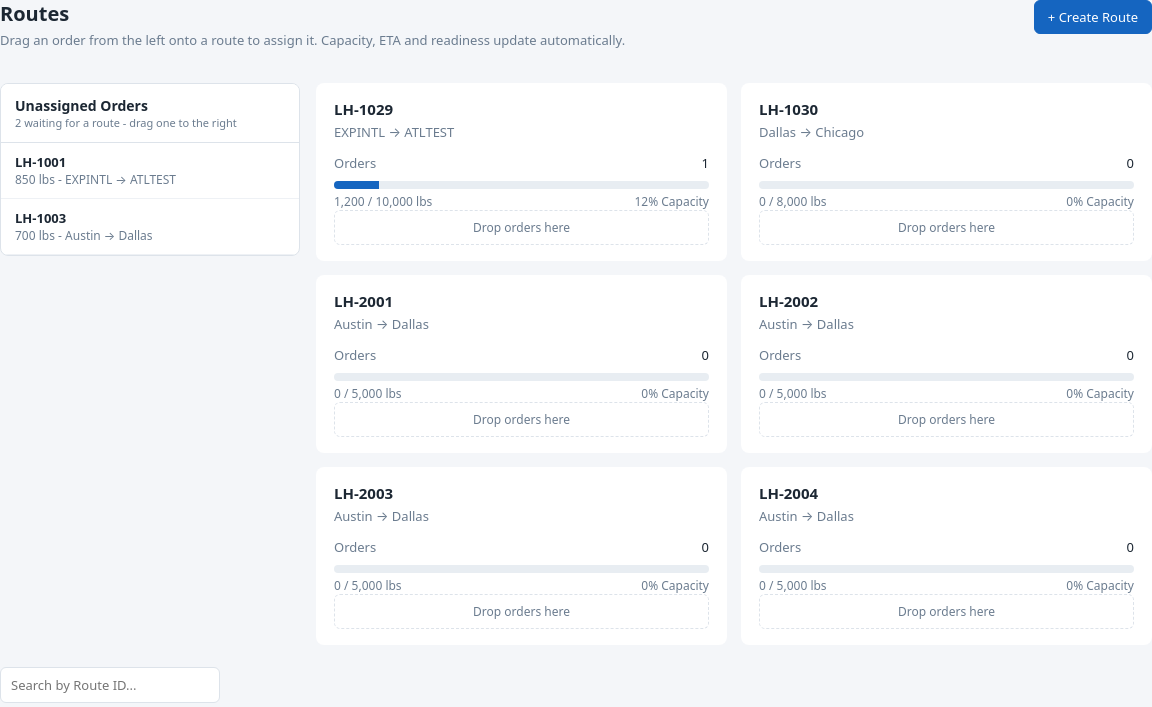
Scenario: Routes pagination › jumps to the page that contains a newly created route
Click the button "+ Create Route": {"x": 1093, "y": 17} left=1034, top=0, right=1151, bottom=34
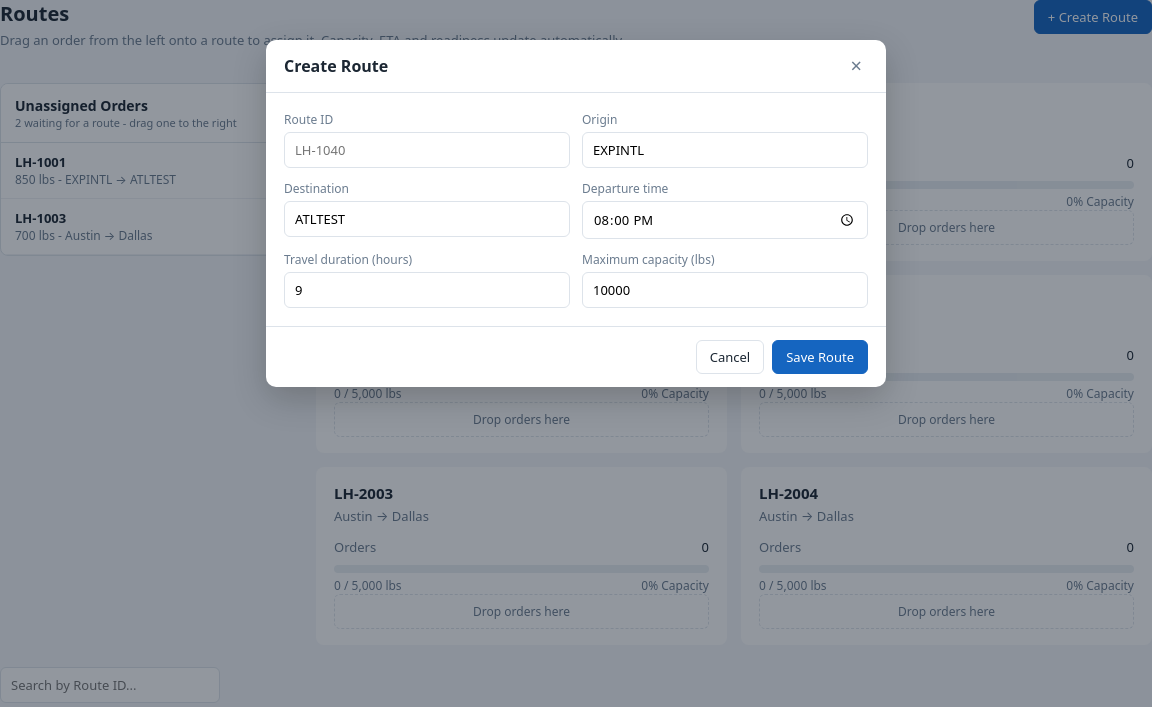
In the field with placeholder "LH-1040": {"x": 427, "y": 150} left=284, top=132, right=570, bottom=168, type "R-9"
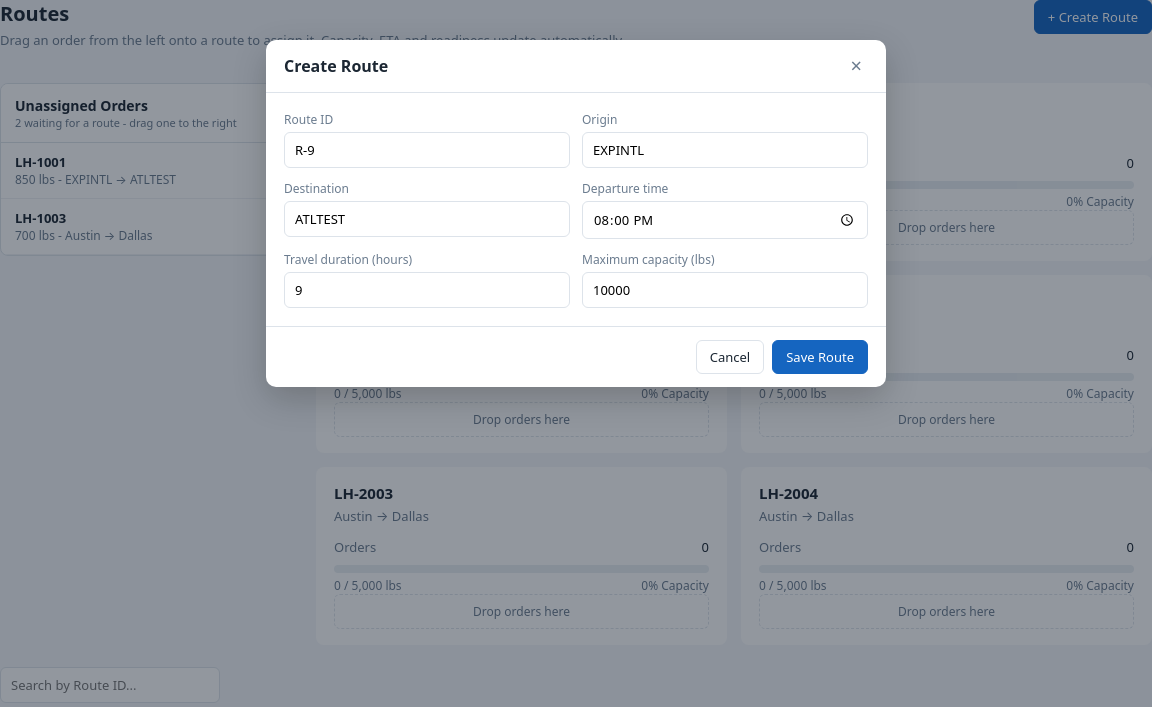
Submit the form with id "route-form", box left=284, top=111, right=868, bottom=308
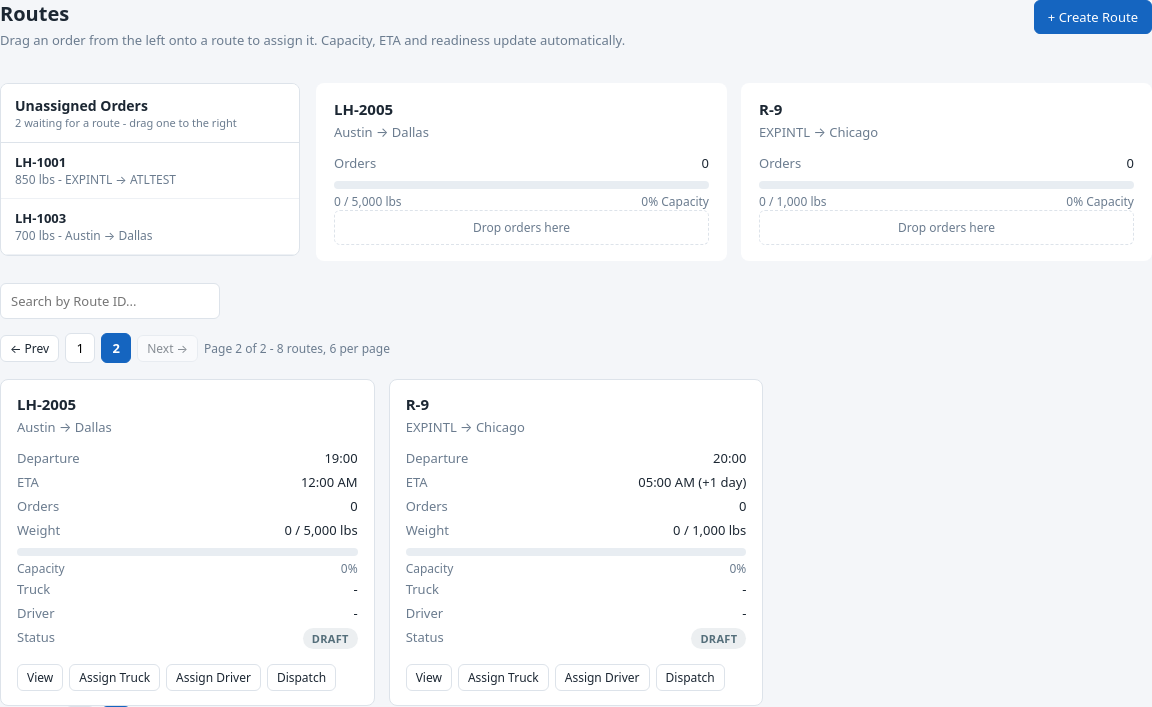
Now the heading "R-9" in the row of "Unassigned Orders" is shown, box left=759, top=99, right=782, bottom=119
Now the 1st text "Page 2 of 2 - 8 routes, 6 per page" is shown, box left=204, top=340, right=390, bottom=356
